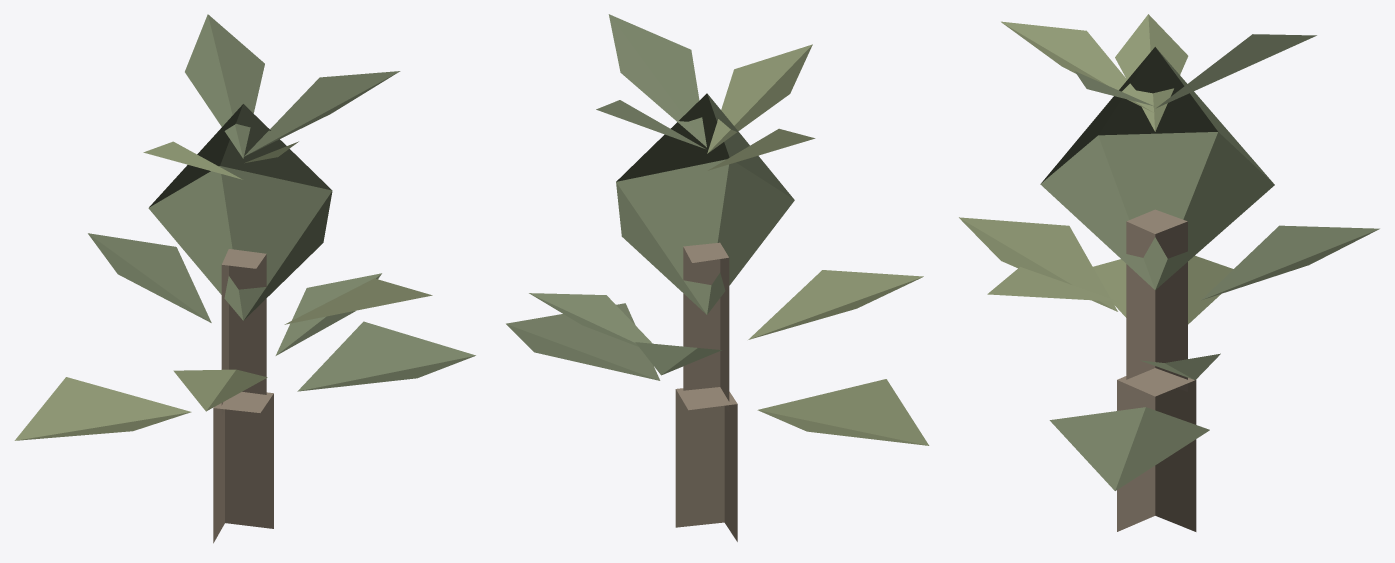
Rendered from guan.fusang@seedling__winter.glb.
3 renders of one model, left to right at view 1: azimuth 30°, elevation 25°; view 2: azimuth 150°, elevation 25°; view 3: azimuth 270°, elevation 25°, orthographic. The views are drawn at different scales.
Parts seen in each view (by area): view 1: guan.fusang@seedling__winter; view 2: guan.fusang@seedling__winter; view 3: guan.fusang@seedling__winter.
Part boxes in pixels (bbox=[...]): guan.fusang@seedling__winter: bbox=[14, 14, 475, 543]; guan.fusang@seedling__winter: bbox=[506, 14, 929, 541]; guan.fusang@seedling__winter: bbox=[959, 14, 1379, 531].
Size of the model in its own units: 0.2218 by 0.2226 by 0.1648.
